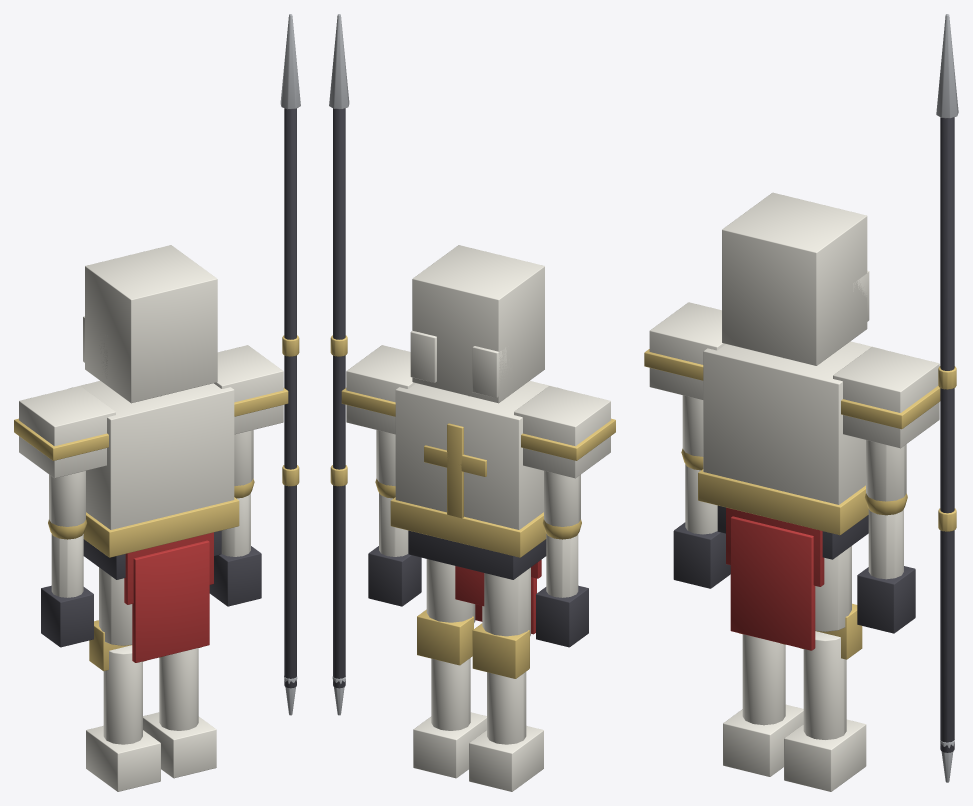
File: spearman.fbx
3 renders of one model, left to right at view 1: azimuth 30°, elevation 25°; view 2: azimuth 150°, elevation 25°; view 3: azimuth 330°, elevation 25°, orthographic. The views are drawn at different scales.
Parts seen in each view (by area): view 1: Spearman; view 2: Spearman; view 3: Spearman.
Boxes of the visible parts, <box> form: Spearman: <box>14,14,300,791</box>; Spearman: <box>329,14,615,791</box>; Spearman: <box>644,14,958,791</box>.
Size of the model in its own units: 85.94 by 222 by 27.
